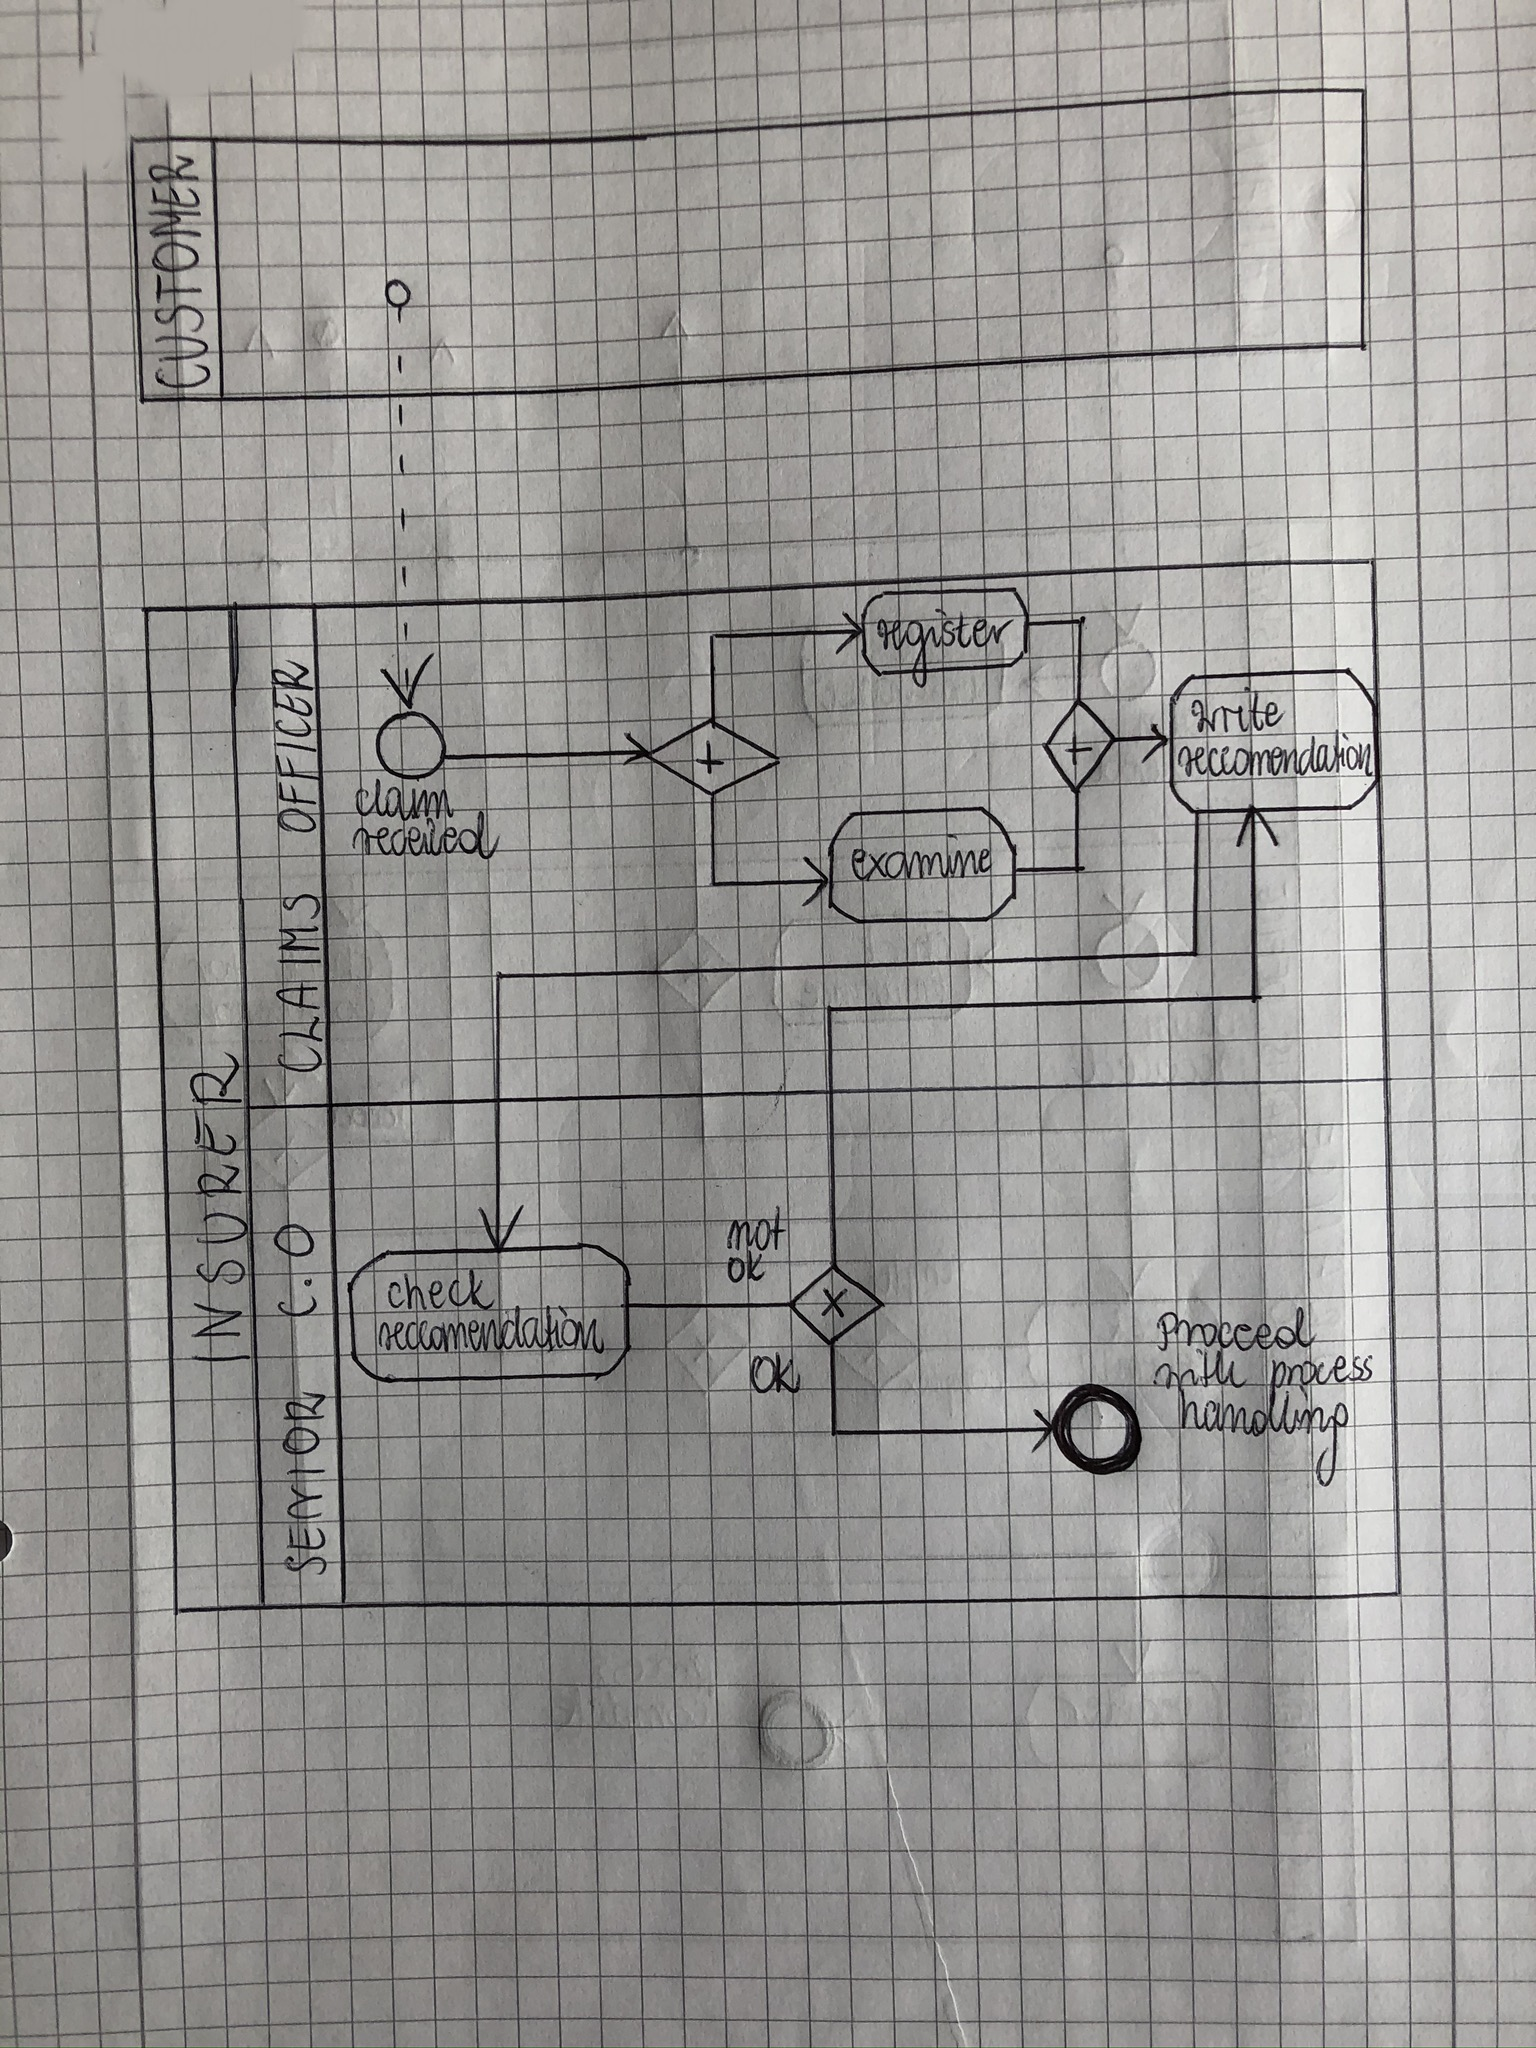C.O: (265, 1213, 328, 1326)
CLAIMS: (265, 885, 336, 1082)
CUSTOMER: (139, 147, 221, 397)
INSURER: (174, 1042, 263, 1372)
OFFICER: (261, 651, 331, 843)
OK: (741, 1343, 808, 1403)
Proceed: (1149, 1300, 1323, 1359)
SENIOR: (273, 1380, 337, 1587)
check: (379, 1261, 502, 1319)
claim: (349, 771, 463, 827)
examine: (842, 827, 1000, 890)
handlings: (1168, 1377, 1359, 1496)
not: (720, 1200, 792, 1256)
ok: (720, 1245, 771, 1288)
process: (1262, 1347, 1381, 1405)
reccomendation: (371, 1300, 611, 1361), (1171, 722, 1378, 787)
received: (344, 805, 507, 868)
register: (870, 601, 1021, 695)
with: (1142, 1342, 1254, 1397)
write: (1183, 681, 1292, 743)
